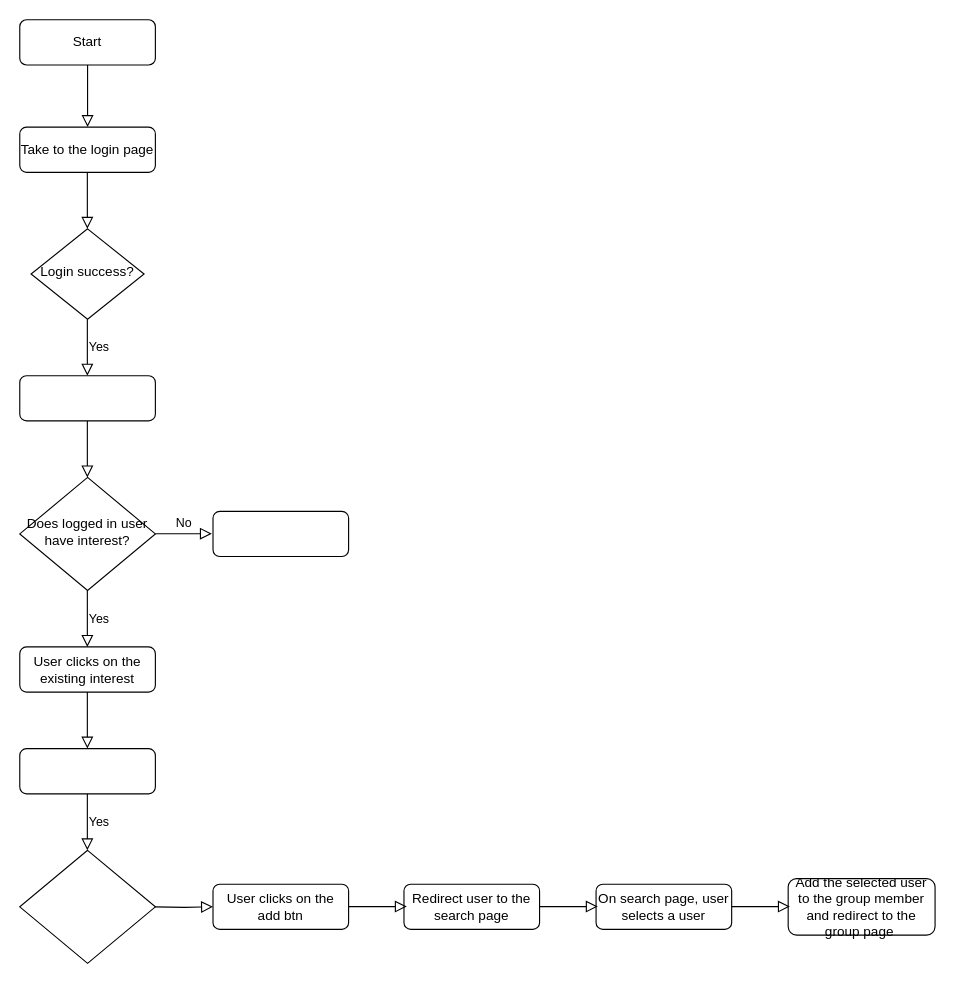
Some shapes in this 955 by 983 pixel diagram are drawn without their labels. The box of each missing label's shape, as (x1, y1, x2, y2) in pixels:
Allow user to add their interest: (212, 510, 349, 557)
Does the group have members: (19, 849, 155, 963)
Redirect user to that interest group: (19, 747, 155, 794)
Take user to the home page (Interest Page): (19, 375, 155, 421)
